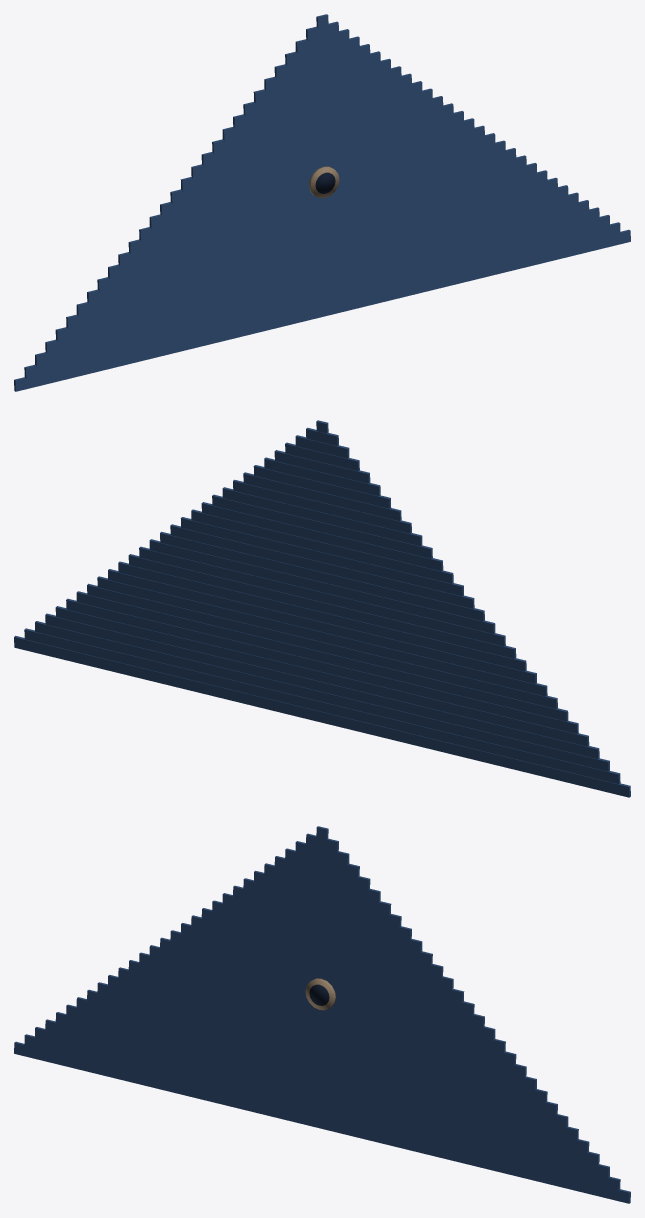
The model's file is kit_clapboard_gable_w7.glb.
3 views of the same model, one above another, from view 1: azimuth 30°, elevation 25°; view 2: azimuth 150°, elevation 25°; view 3: azimuth 330°, elevation 25° (orthographic).
Visible parts, largest first — view 1: kit_clapboard_gable_w7; view 2: kit_clapboard_gable_w7; view 3: kit_clapboard_gable_w7.
Boxes of the visible parts, box(x1,y1,x2,y2) form: kit_clapboard_gable_w7: box(14, 14, 630, 391); kit_clapboard_gable_w7: box(14, 420, 630, 797); kit_clapboard_gable_w7: box(14, 826, 630, 1203).
Bounding box in the file's own units: 6.88 × 3.21 × 0.082.
